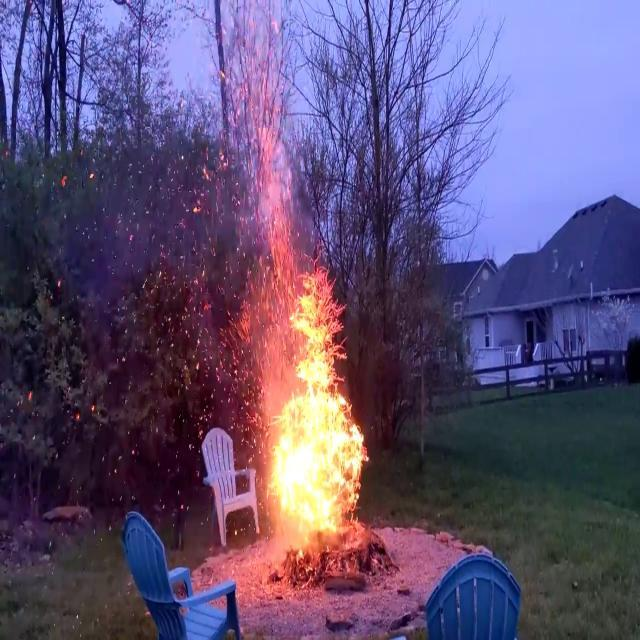Fire: (256, 261, 375, 538)
